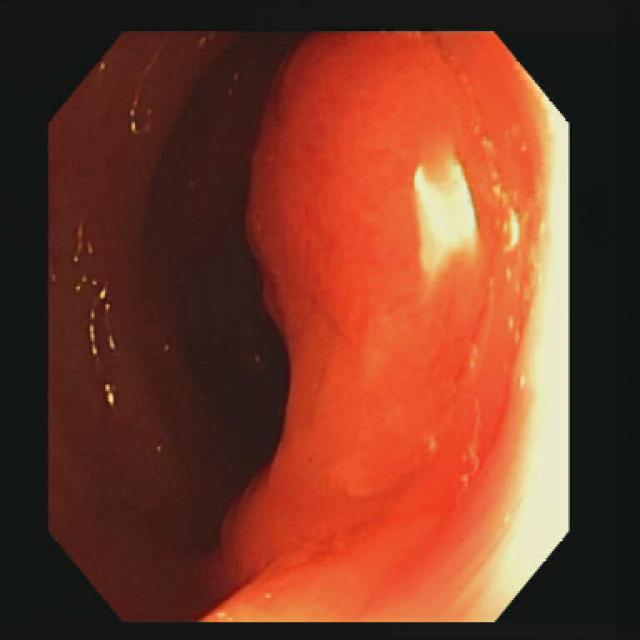tumor: (202, 33, 553, 620)
